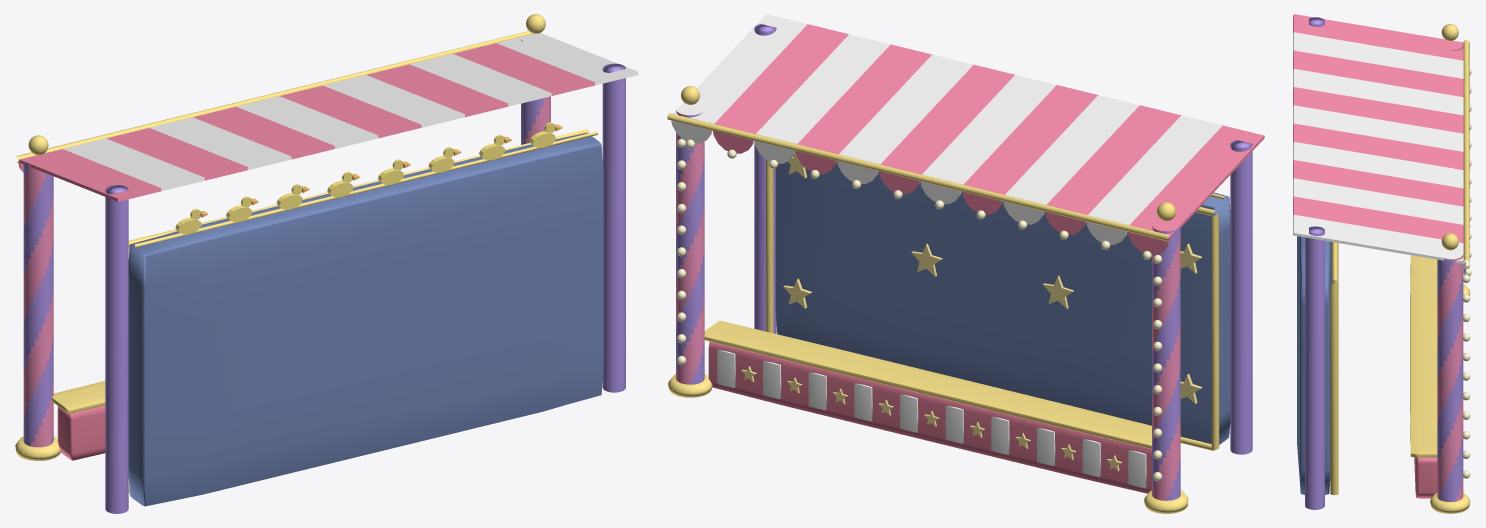
The model's file is LobbyGalleryBooth.glb.
3 renders of one model, left to right at view 1: azimuth 30°, elevation 25°; view 2: azimuth 150°, elevation 25°; view 3: azimuth 270°, elevation 25°, orthographic. The views are drawn at different scales.
Visible parts, largest first — view 1: Back, Frame, AwningA, AwningB, Trim, Stripes, Ducks, Counter; view 2: Back, AwningA, AwningB, Trim, Frame, Counter, Stripes, Panels, Stars, Bulbs; view 3: AwningB, AwningA, Trim, Frame, Back, Stripes, Counter, Bulbs.
Part boxes in pixels (x1=…): Back: x1=128, y1=133, x2=603, y2=506; Frame: x1=23, y1=39, x2=625, y2=513; AwningA: x1=18, y1=43, x2=595, y2=201; AwningB: x1=63, y1=33, x2=638, y2=190; Trim: x1=15, y1=14, x2=597, y2=492; Stripes: x1=23, y1=96, x2=550, y2=447; Ducks: x1=175, y1=122, x2=555, y2=234; Counter: x1=57, y1=405, x2=105, y2=460; Back: x1=775, y1=151, x2=1230, y2=444; AwningA: x1=713, y1=24, x2=1264, y2=254; AwningB: x1=671, y1=14, x2=1222, y2=244; Trim: x1=667, y1=86, x2=1224, y2=513; Frame: x1=676, y1=24, x2=1252, y2=500; Counter: x1=708, y1=341, x2=1151, y2=493; Stripes: x1=676, y1=110, x2=1180, y2=500; Panels: x1=717, y1=349, x2=1146, y2=488; Stars: x1=741, y1=152, x2=1202, y2=471; Bulbs: x1=677, y1=138, x2=1162, y2=481; AwningB: x1=1293, y1=32, x2=1465, y2=274; AwningA: x1=1293, y1=14, x2=1463, y2=242; Trim: x1=1330, y1=24, x2=1470, y2=513; Frame: x1=1305, y1=17, x2=1463, y2=509; Back: x1=1297, y1=236, x2=1332, y2=494; Stripes: x1=1437, y1=45, x2=1463, y2=500; Counter: x1=1414, y1=457, x2=1437, y2=498; Bulbs: x1=1463, y1=68, x2=1471, y2=478.
Bounding box in the file's own units: 37.2 × 21.3 × 12.42.
